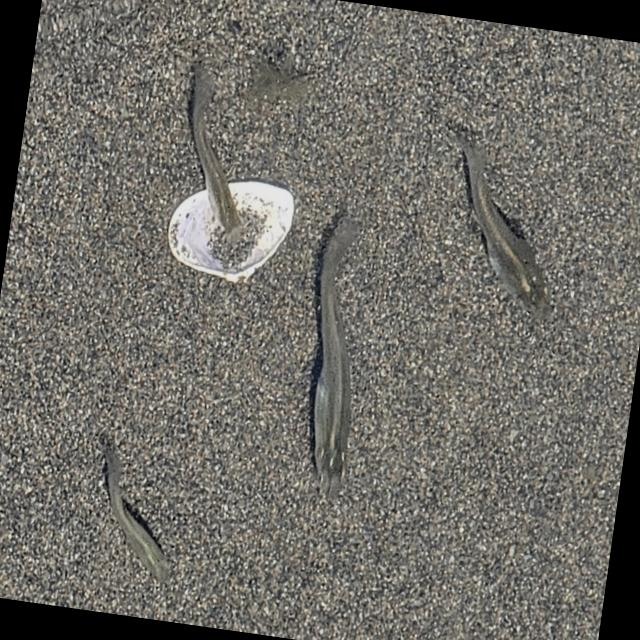Sivrisinek Baligi: (422, 119, 584, 334), (287, 236, 381, 504), (78, 430, 198, 594), (166, 69, 264, 258)
